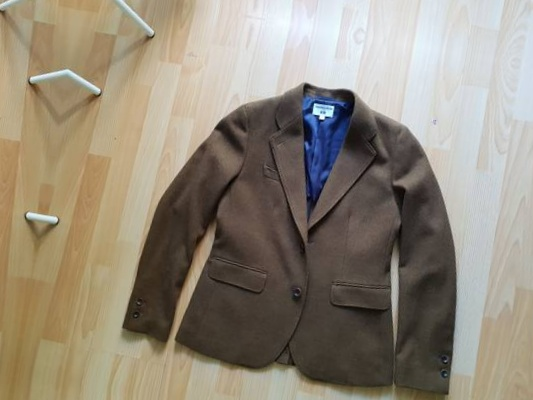Blazer: (115, 69, 475, 397)
